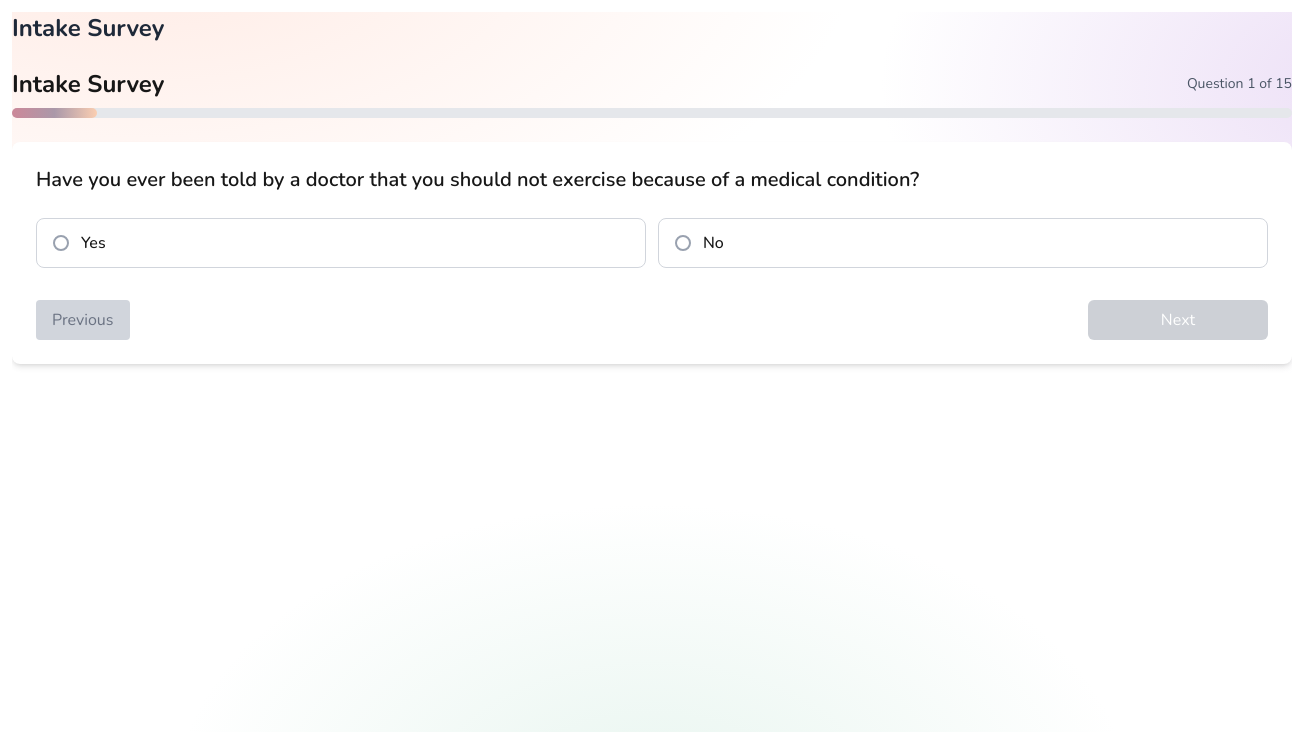
IntakeSurvey - Simple Reliable Tests › allows answering questions and navigating
What coordinates should you click on to do the following:
click the radio button labelled "Yes"
I would click on:
 (61, 243)
Its box is [36,218,646,268].
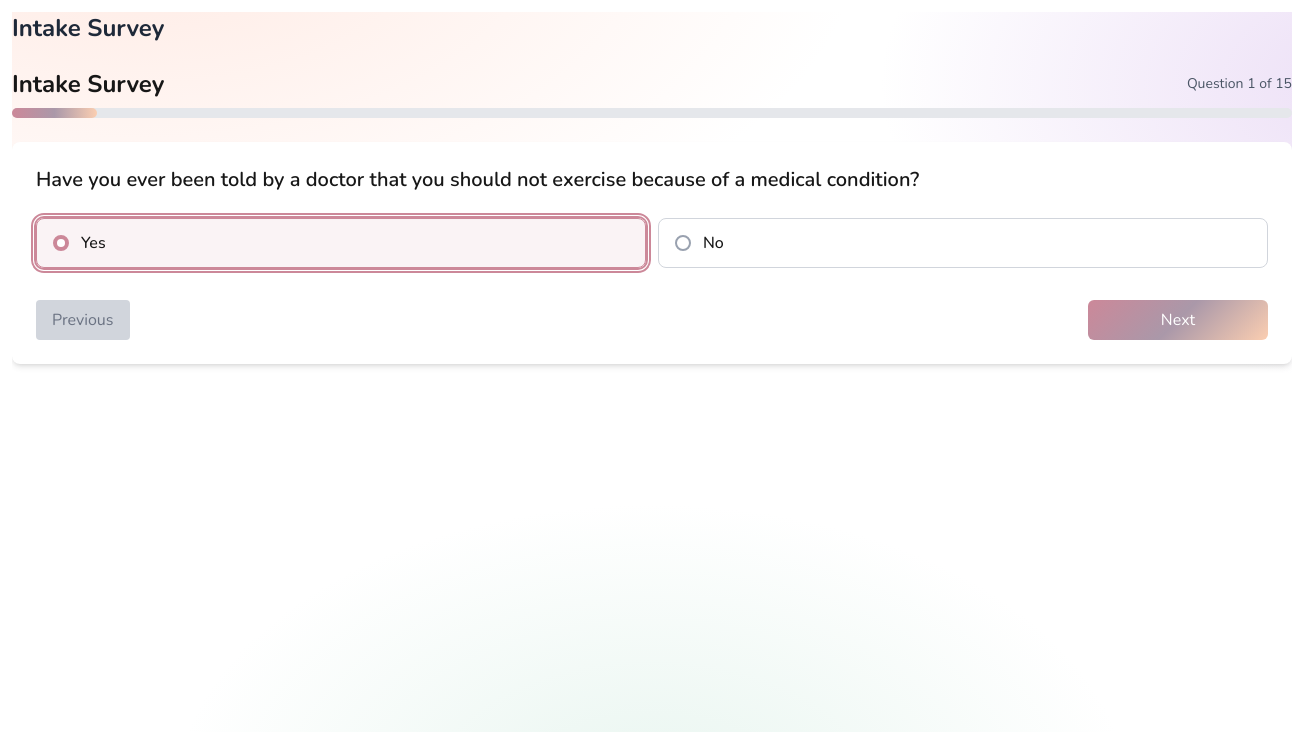
Result: the button "Next" is enabled
# Navigate to second question
What coordinates should you click on to do the following:
click the button "Next"
I would click on:
 (1178, 320)
Its box is [1088,300,1268,340].
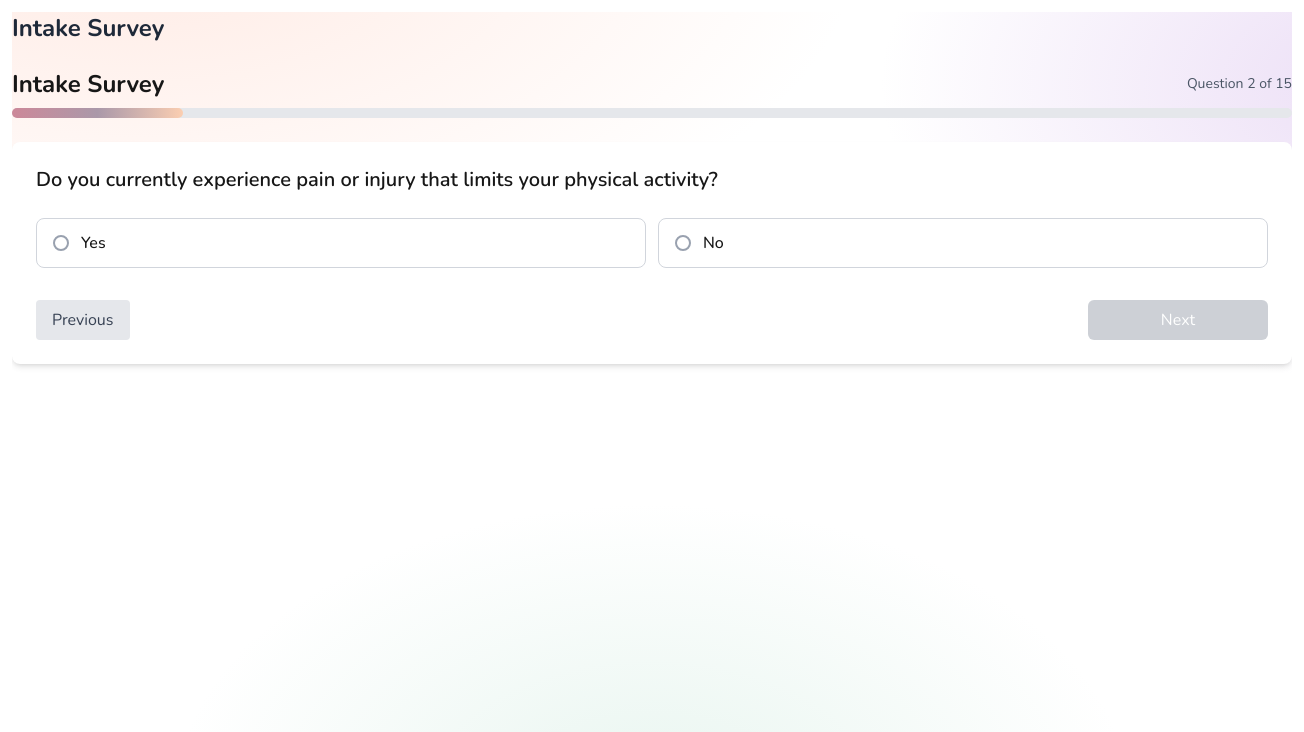
Result: the text "Question 2 of 15" is shown at [1187,74,1292,94]
Result: the heading "Do you currently experience pain or injury that limits your physical activity?" is shown at [36,166,718,193]
